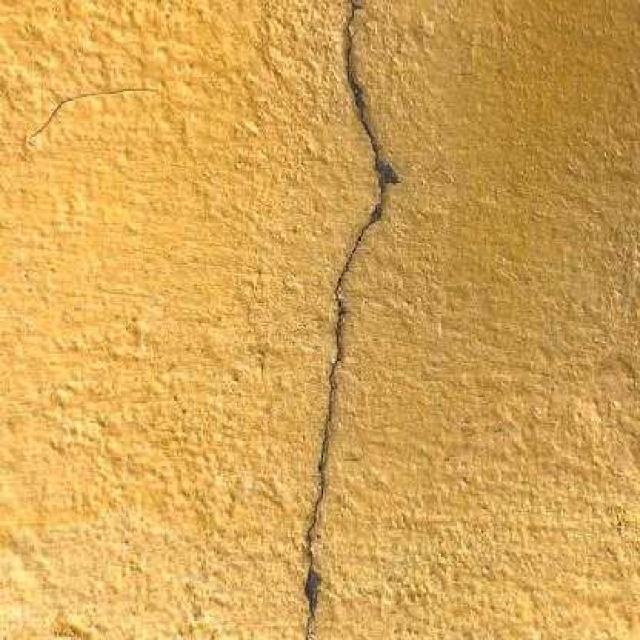D00: (305, 0, 382, 640)
